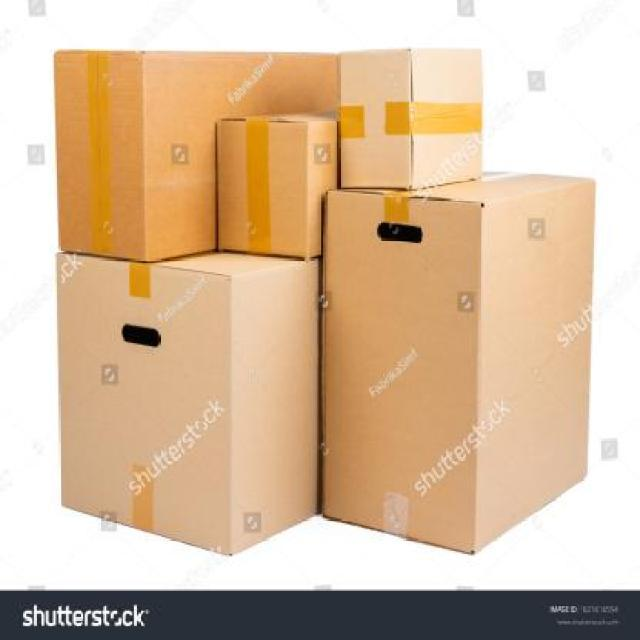BoxFace: (322, 192, 482, 554), (56, 252, 235, 557), (54, 49, 146, 262), (216, 117, 310, 260), (340, 49, 414, 188)
